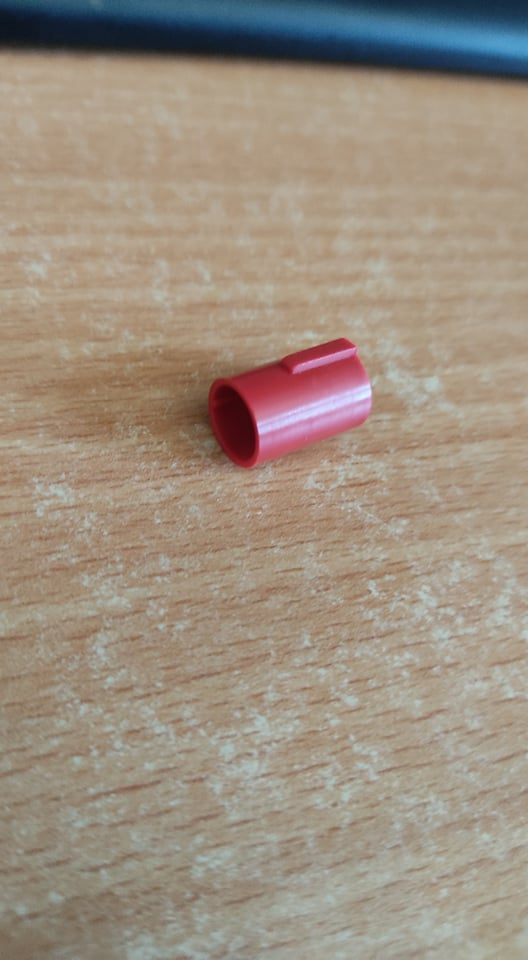red_bucking: (183, 325, 392, 482)
